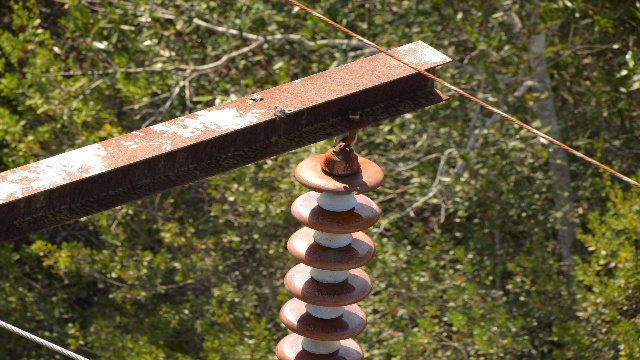insulator_unspecified: (272, 152, 384, 359)
